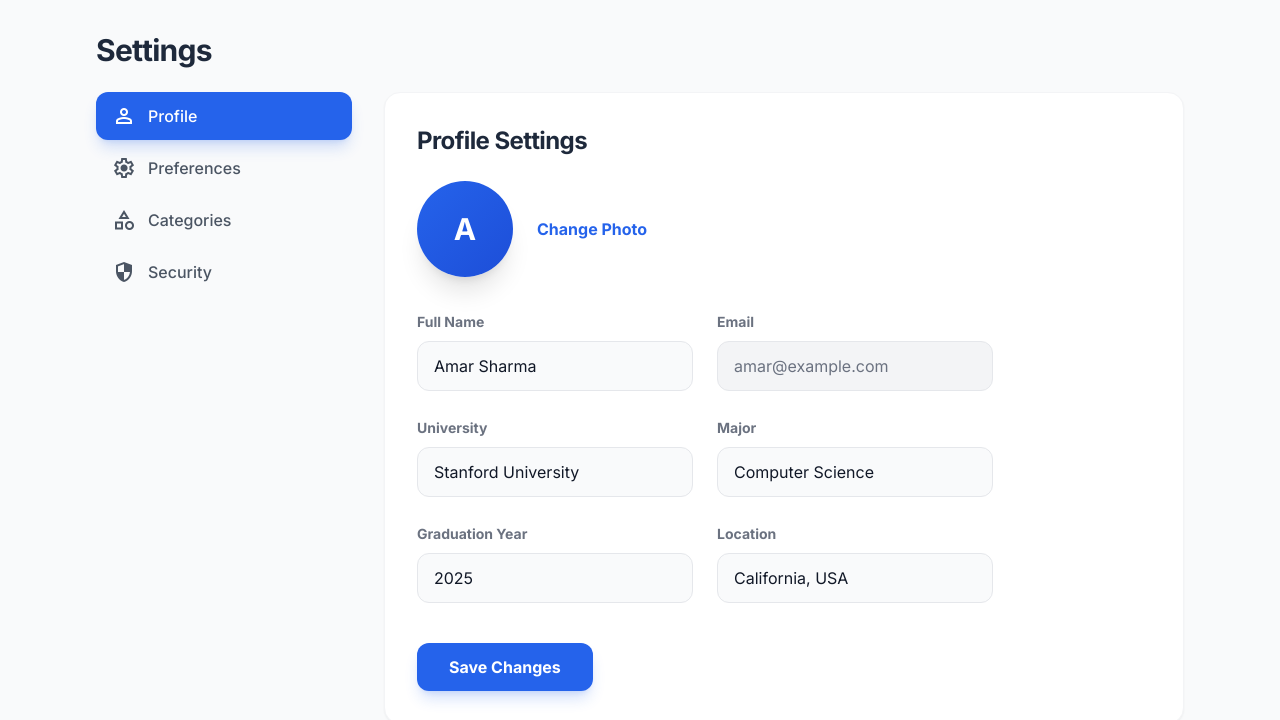
Test: Settings Flow › navigates through settings tabs
This screenshot has width=1280, height=720.
Expected: the heading "Profile Settings" is shown, [417, 126, 587, 155]
Note: Click Preferences
What coordinates should you click on to do the following:
click the button "Preferences"
I would click on:
 (224, 168)
Its box is [96, 144, 352, 192].
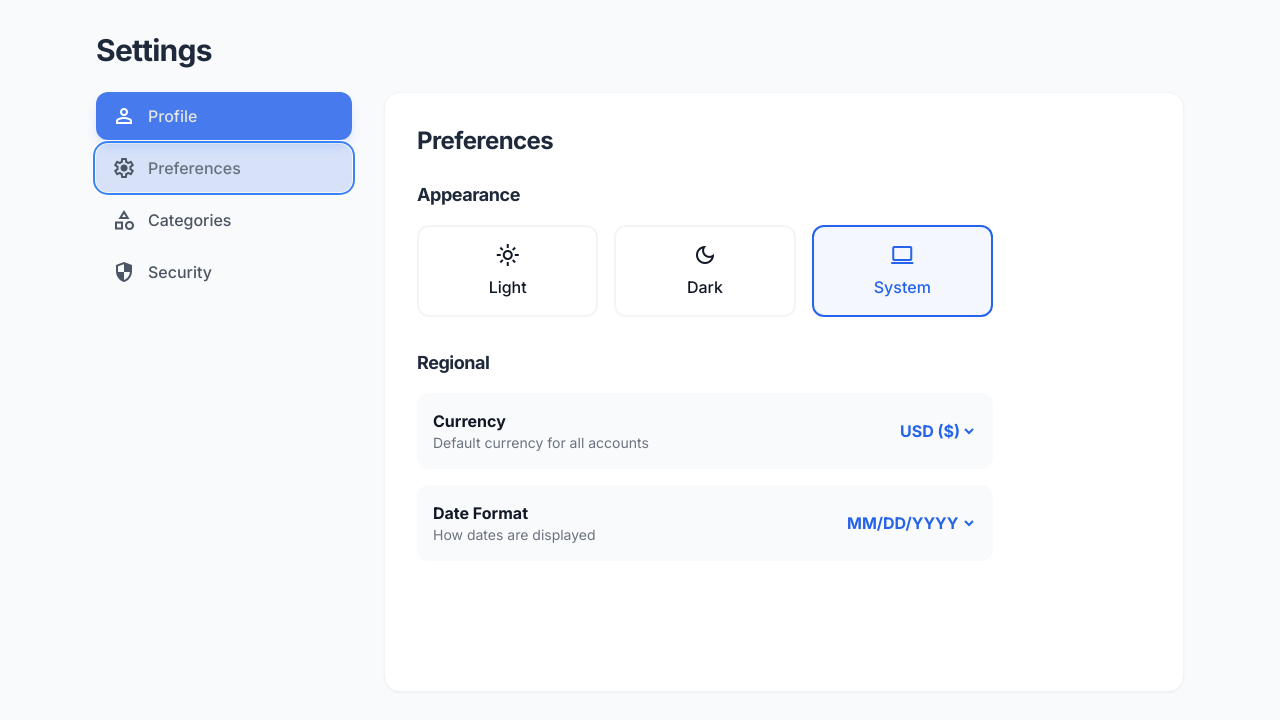
Now the heading "Appearance" is shown, box [417, 184, 520, 205]
Note: Click Categories
What coordinates should you click on to do the following:
click the button "Categories"
I would click on:
 (224, 220)
Its box is [96, 196, 352, 244].
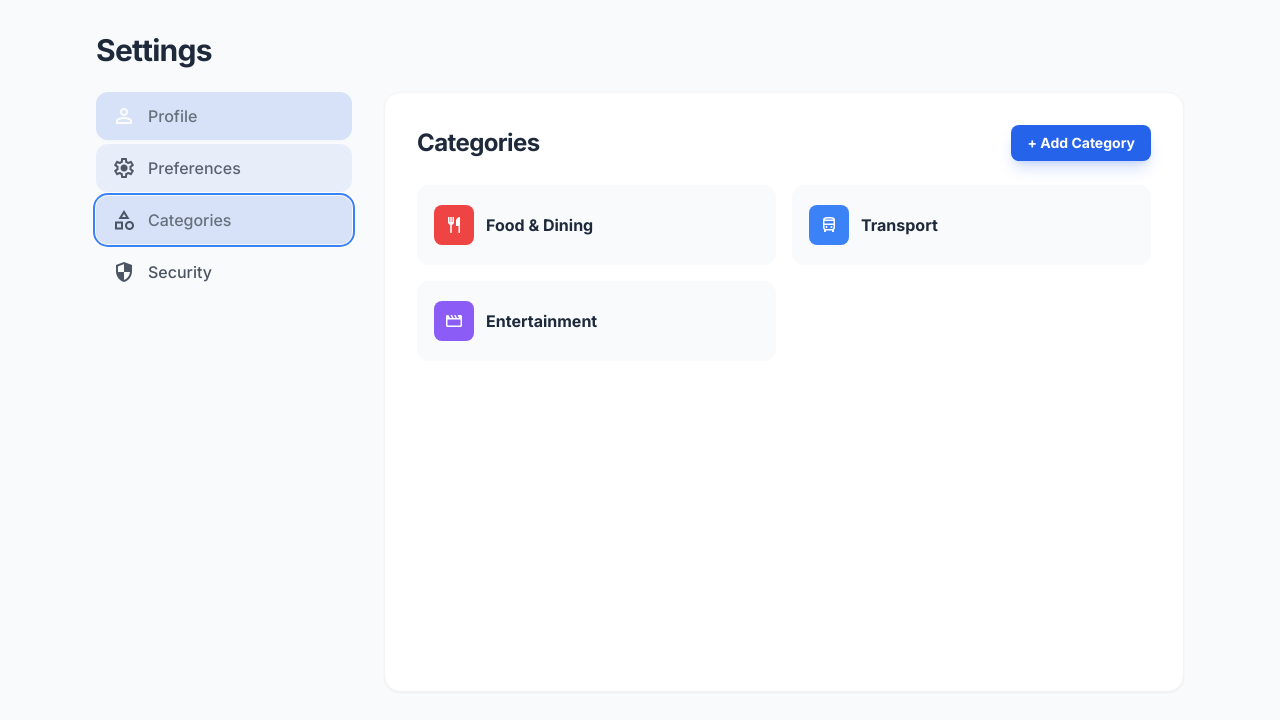
Now the button "+ Add Category" is shown, box [1012, 125, 1151, 161]
Note: Click Security
What coordinates should you click on to do the following:
click the button "Security"
I would click on:
 (224, 272)
Its box is [96, 248, 352, 296].
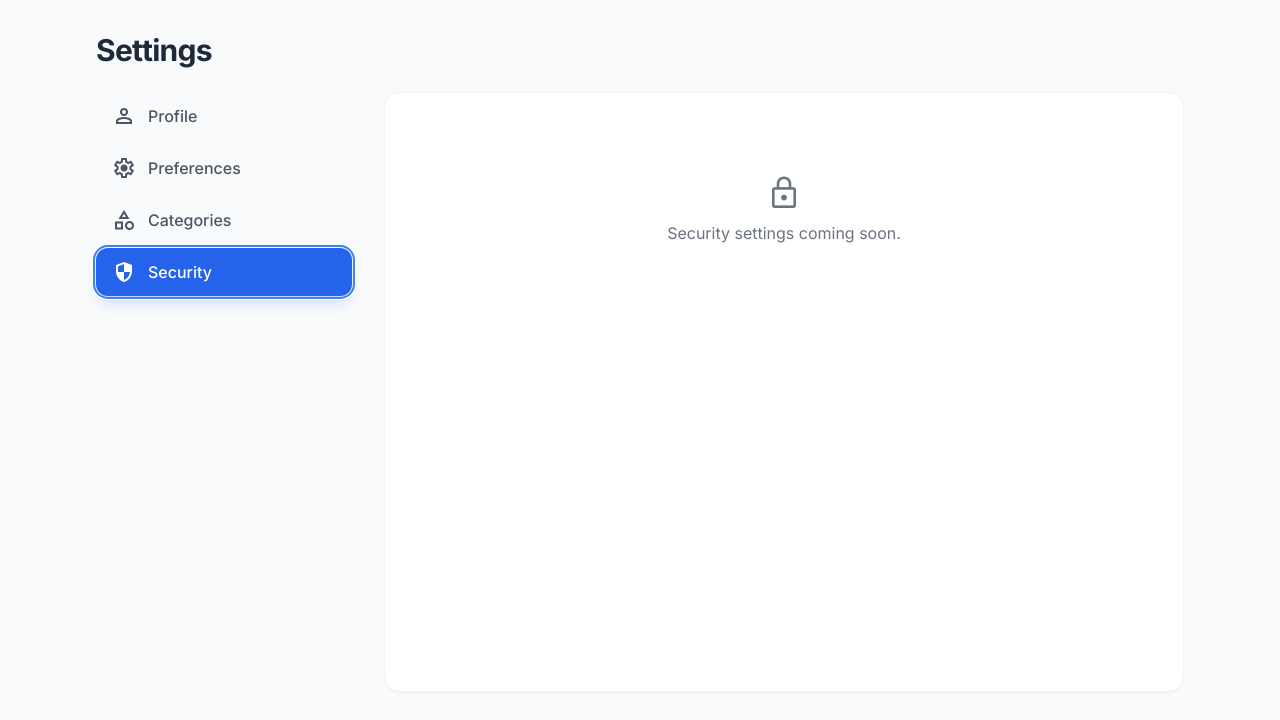
Now the text "Security settings coming soon." is shown, box [667, 223, 901, 243]
